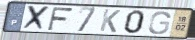0: (123, 9, 147, 35)
7: (77, 6, 97, 34)
F: (46, 6, 75, 31)
G: (147, 11, 172, 36)
K: (98, 8, 122, 34)
X: (20, 5, 51, 32)
